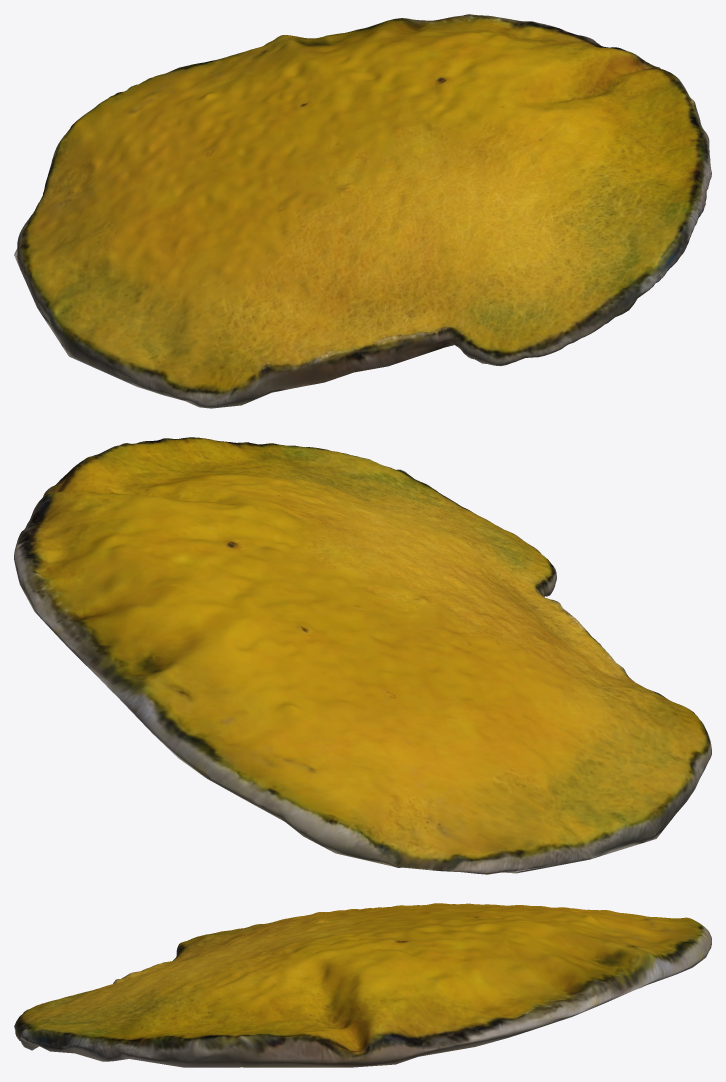
3 views of the same model, one above another, from view 1: azimuth 30°, elevation 25°; view 2: azimuth 150°, elevation 25°; view 3: azimuth 270°, elevation 25° (orthographic). The views are drawn at different scales.
Size of the model in its own units: 0.8101 by 0.2537 by 0.8179.
Materials: 1 (1 with a texture image).
